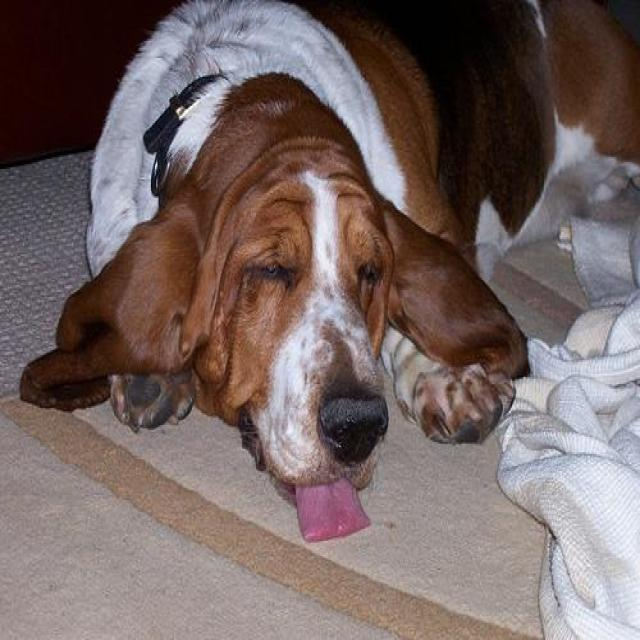basset: (14, 0, 529, 543)
